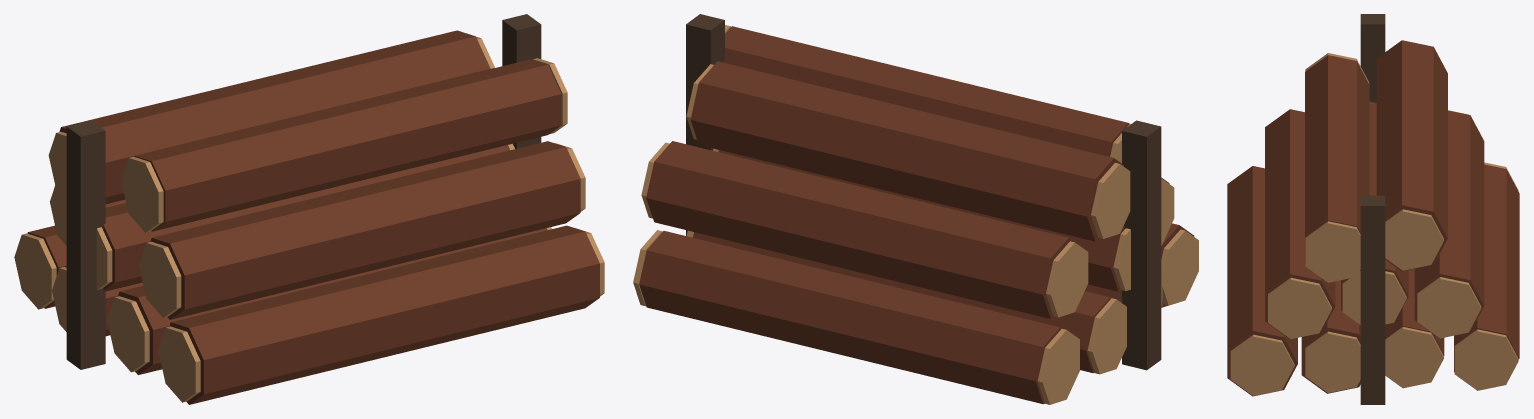
File: woodpile.glb
The picture shows the model from 3 angles, left to right: view 1: azimuth 30°, elevation 25°; view 2: azimuth 150°, elevation 25°; view 3: azimuth 270°, elevation 25°; orthographic projection. The views are drawn at different scales.
Visible parts, largest first — view 1: woodpile; view 2: woodpile; view 3: woodpile.
Boxes of the visible parts, x1,y1,x2,y2 form: woodpile: [14, 14, 604, 404]; woodpile: [633, 14, 1198, 404]; woodpile: [1227, 14, 1519, 404].
Bounding box in the file's own units: 0.93 × 0.45 × 0.5982.
